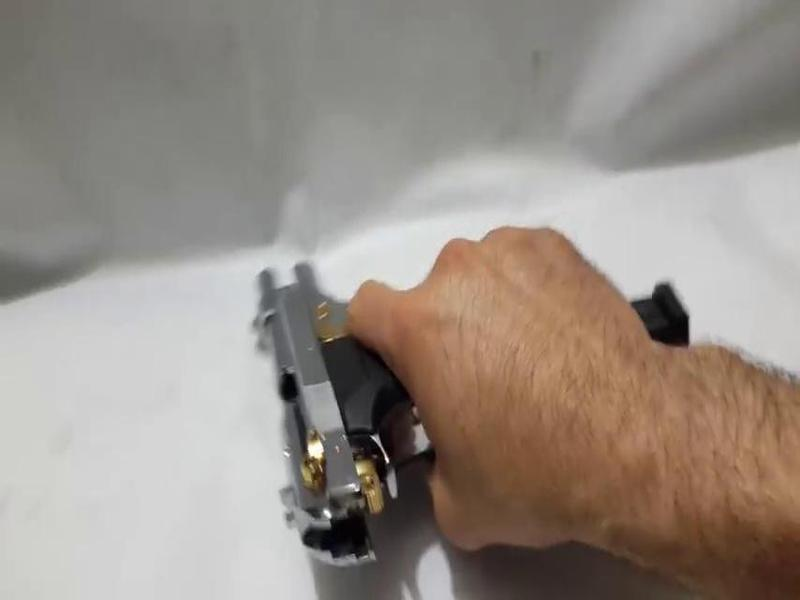Pistola: (262, 244, 520, 573)
